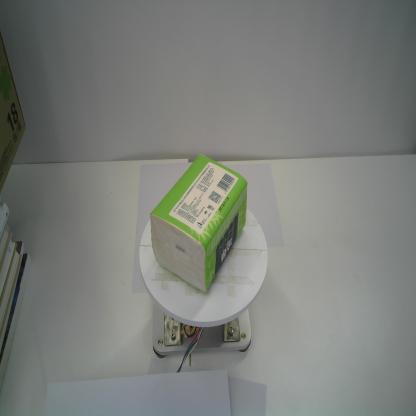Tissue: (150, 155, 247, 294)
